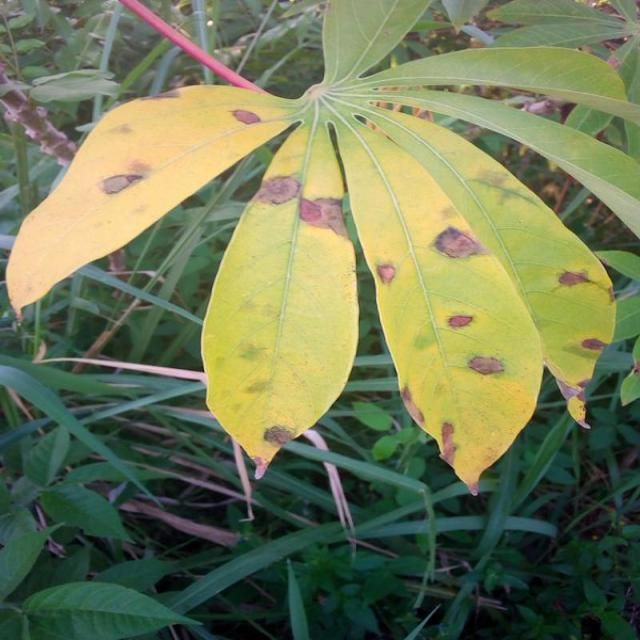cassava leaf: (4, 0, 636, 497), (199, 112, 360, 480)
